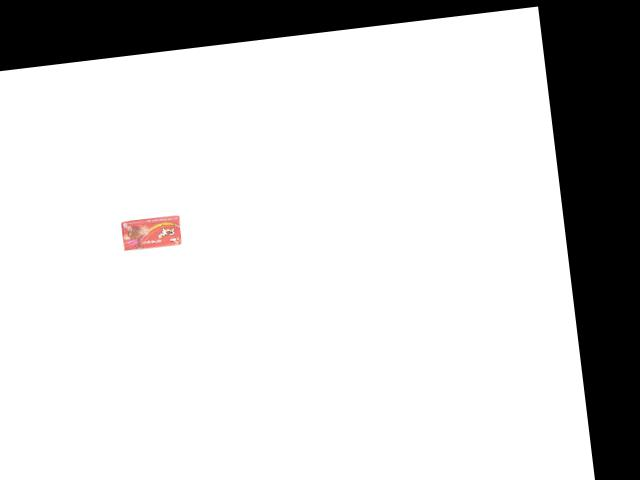chocolate: (119, 211, 185, 251)
